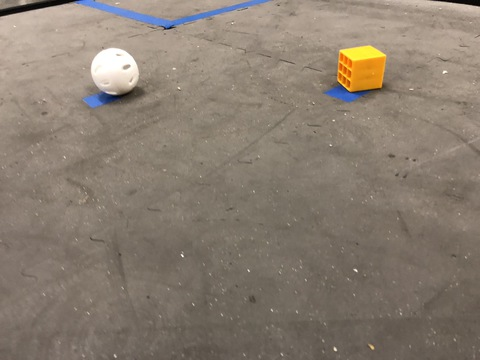ball: (80, 42, 147, 102)
block: (323, 38, 393, 109)
